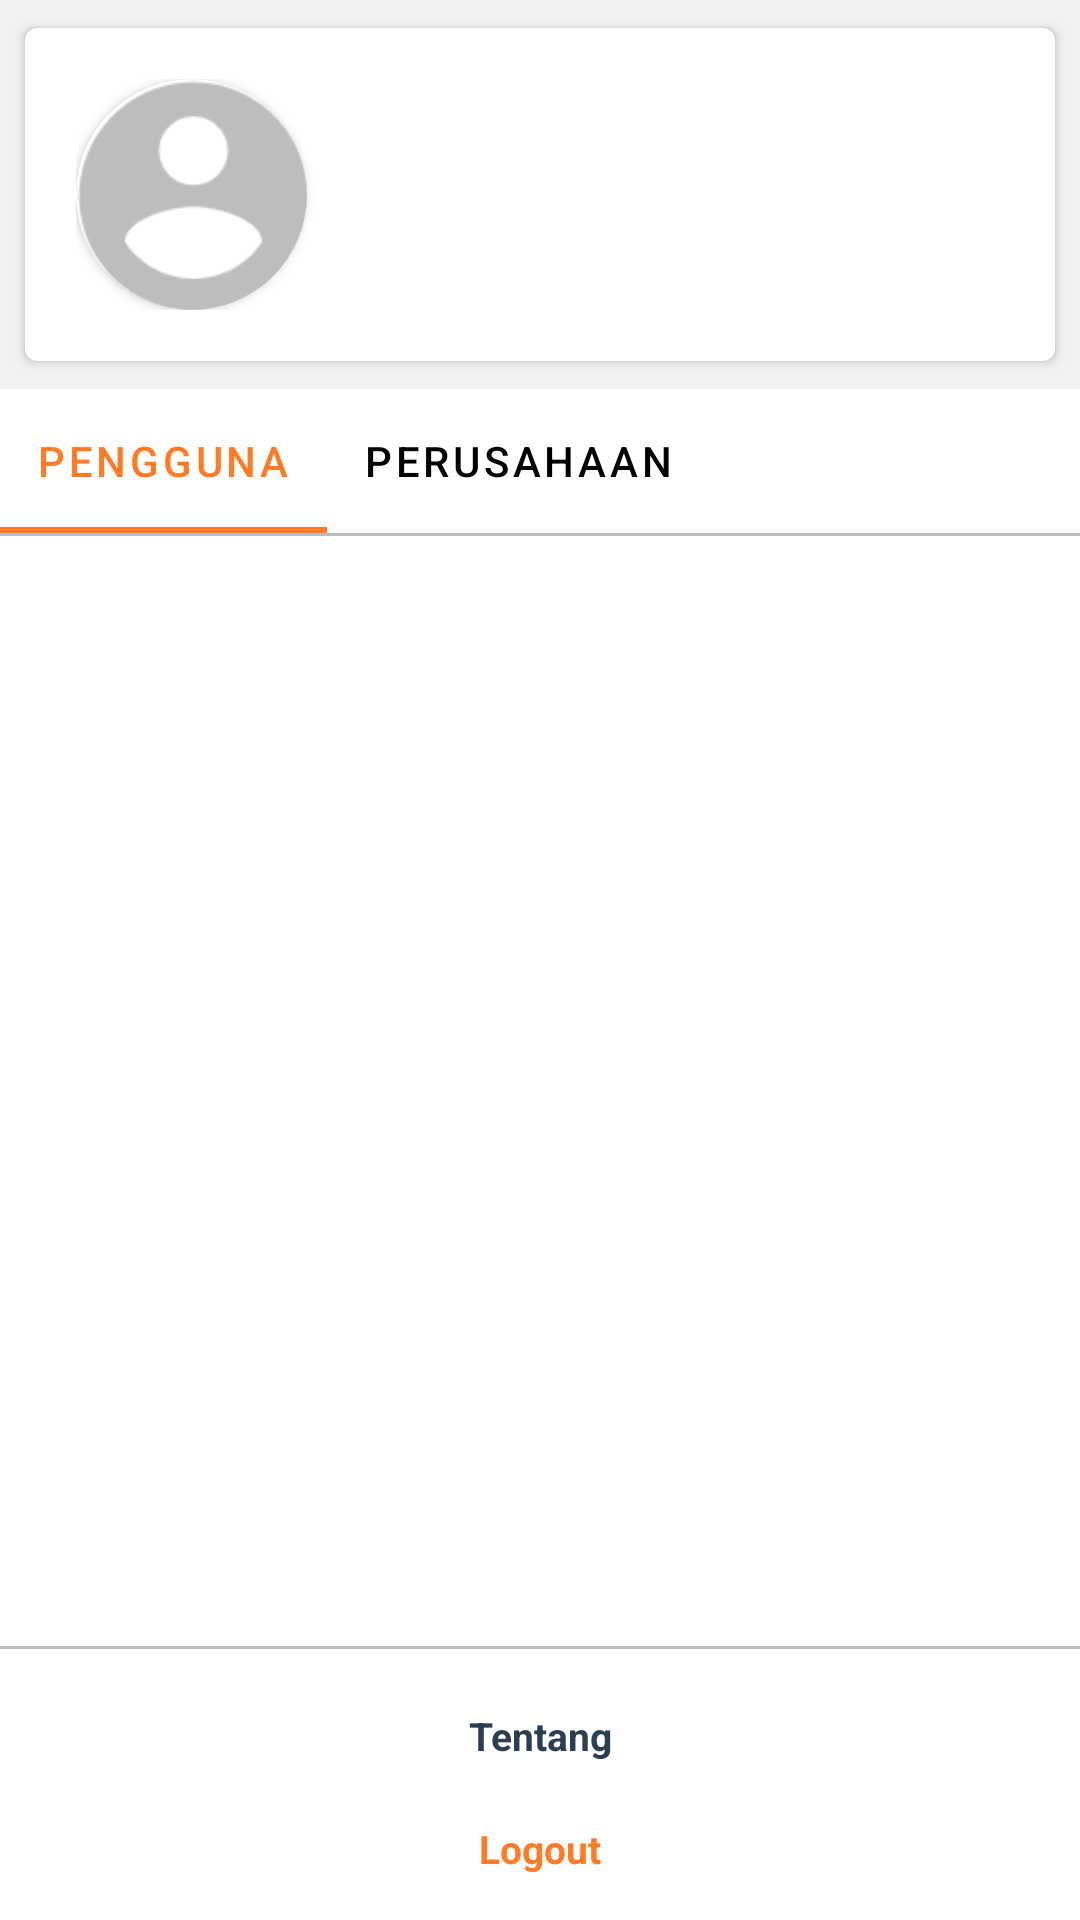

Where to tap for icons on this 1080px x 1920px app screen, as point (x, y):
profile: point (191, 196)
